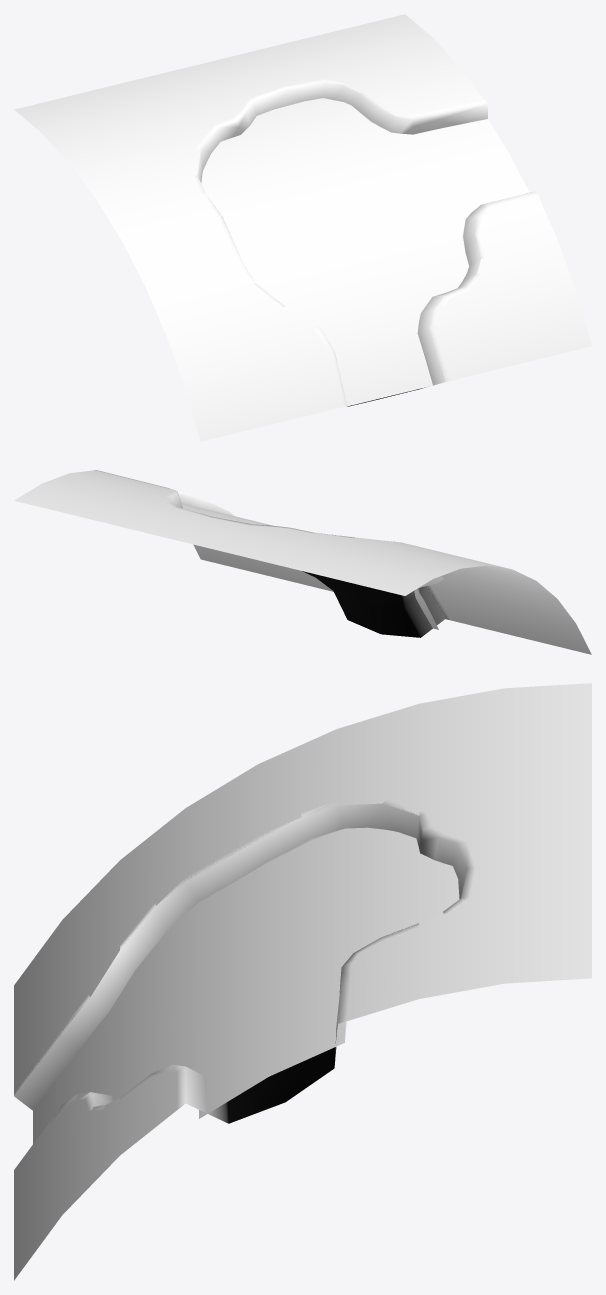
The model's file is grd_Rne_P_0.dae.
3 views of the same model, one above another, from view 1: azimuth 30°, elevation 25°; view 2: azimuth 150°, elevation 25°; view 3: azimuth 270°, elevation 25° (orthographic). The views are drawn at different scales.
Parts seen in each view (by area): view 1: grass_1_0, river_2_0, cliff_river_0_0, river_edge_3_0; view 2: grass_1_0, cliff_river_0_0, river_2_0, river_edge_3_0; view 3: grass_1_0, river_2_0, cliff_river_0_0, river_edge_3_0.
Boxes of the visible parts, x1,y1,x2,y2 form: grass_1_0: (14, 14, 591, 441); river_2_0: (201, 98, 528, 407); cliff_river_0_0: (191, 79, 538, 407); river_edge_3_0: (201, 98, 529, 407); grass_1_0: (14, 470, 591, 654); cliff_river_0_0: (94, 470, 450, 637); river_2_0: (181, 503, 443, 629); river_edge_3_0: (182, 505, 438, 629); grass_1_0: (14, 683, 591, 1280); river_2_0: (33, 828, 458, 1143); cliff_river_0_0: (14, 799, 475, 1150); river_edge_3_0: (33, 827, 459, 1118).
Size of the model in its own units: 512 by 264 by 423.
4 materials, 1 textured.
